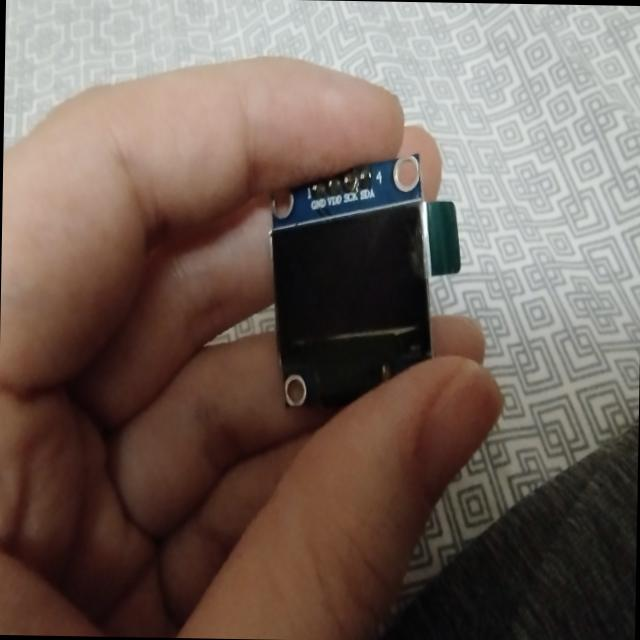oled: (262, 146, 472, 418)
